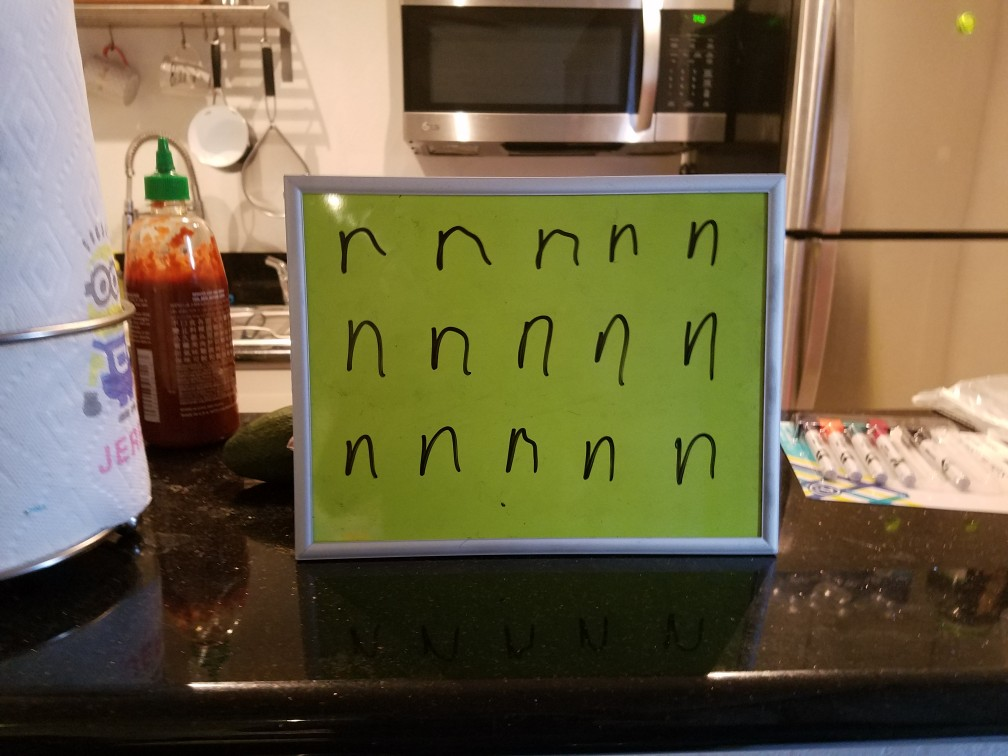n: (654, 420, 732, 506), (588, 301, 646, 397), (498, 300, 558, 392), (340, 306, 399, 398), (410, 407, 470, 493), (421, 305, 482, 388), (527, 211, 592, 285), (330, 418, 386, 503), (333, 210, 392, 287), (574, 422, 629, 501), (676, 307, 727, 392), (433, 215, 493, 286), (499, 411, 553, 489), (671, 206, 727, 280), (603, 209, 645, 273)
